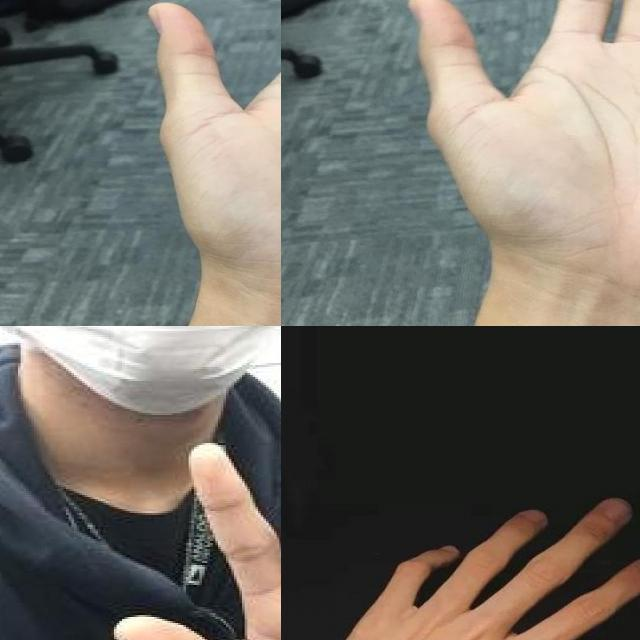hand: (406, 0, 640, 302), (281, 496, 640, 640), (146, 0, 281, 326), (114, 409, 281, 640)
